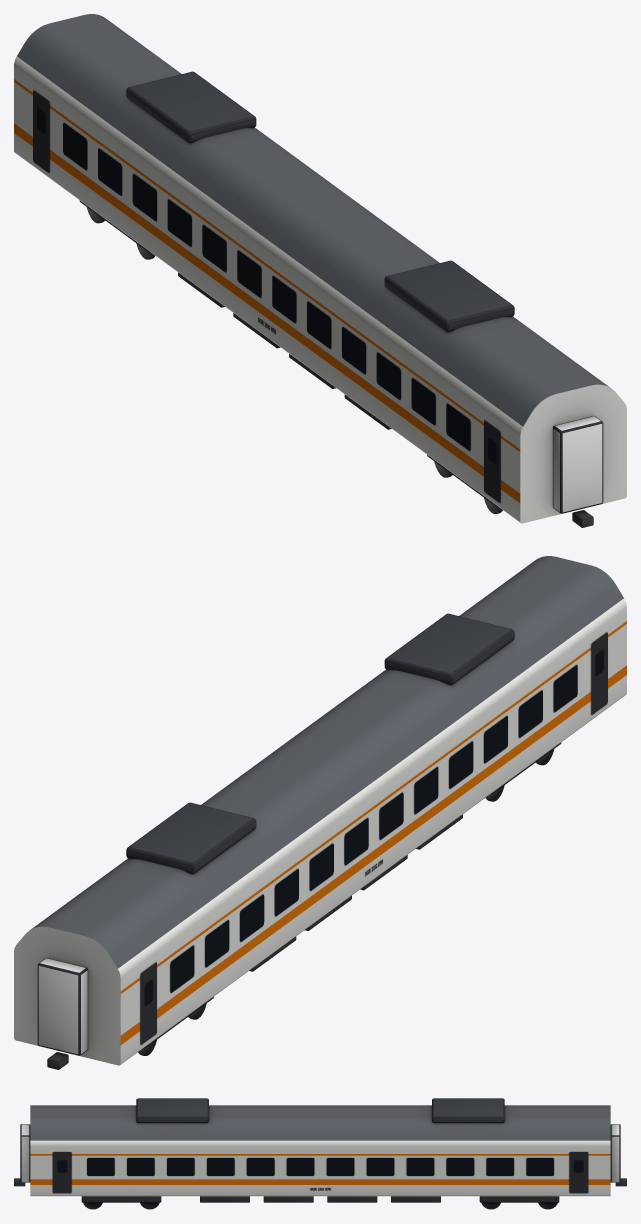
The model's file is train_sgr_coach.glb.
The picture shows the model from 3 angles, top to bottom: view 1: azimuth 30°, elevation 25°; view 2: azimuth 150°, elevation 25°; view 3: azimuth 270°, elevation 25°; orthographic projection. The views are drawn at different scales.
Visible parts, largest first — view 1: body, glass; view 2: body, glass; view 3: body, glass.
Boxes of the visible parts, <box> form: body: <box>14,14,626,527</box>; glass: <box>37,108,496,463</box>; body: <box>14,556,626,1069</box>; glass: <box>144,650,603,1005</box>; body: <box>14,1098,626,1209</box>; glass: <box>57,1158,583,1175</box>.
Size of the model in its own units: 3.13 by 4.58 by 26.94.
Materials: 10 (9 with a texture image).
